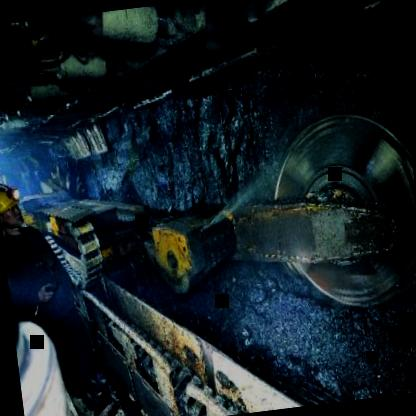helmet: (0, 181, 22, 229)
